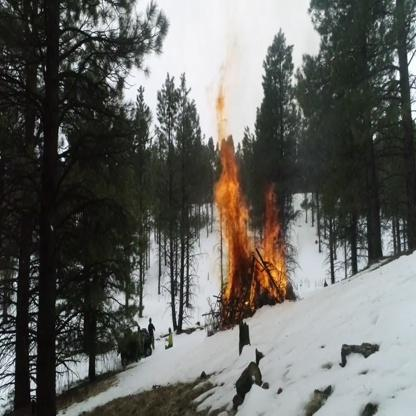Fire: (212, 95, 291, 316)
